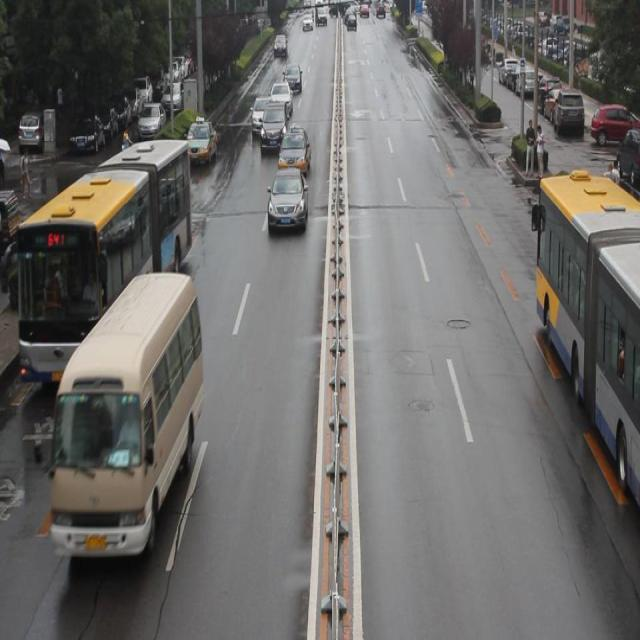car: (109, 151, 175, 212), (268, 167, 306, 235), (183, 119, 216, 170), (278, 128, 311, 177), (261, 102, 288, 154), (250, 94, 274, 140)
truck: (50, 278, 201, 554)
van: (15, 141, 196, 380), (531, 183, 640, 519)
